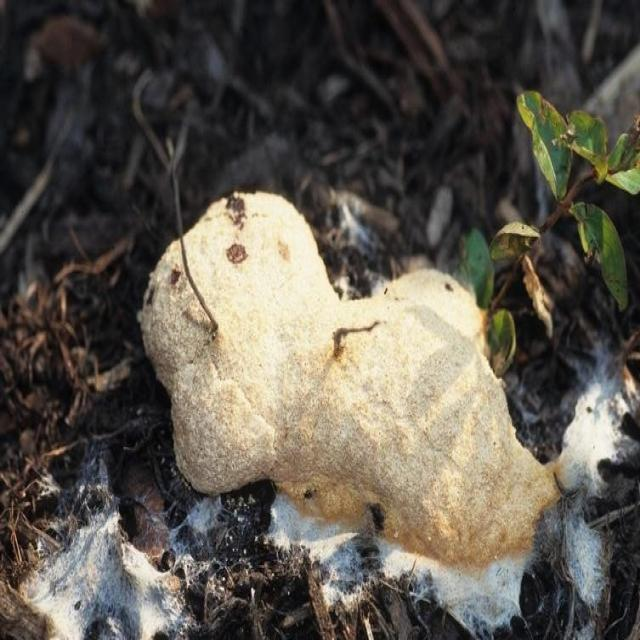Dog_vomit_slime_mold: (137, 186, 637, 636)
